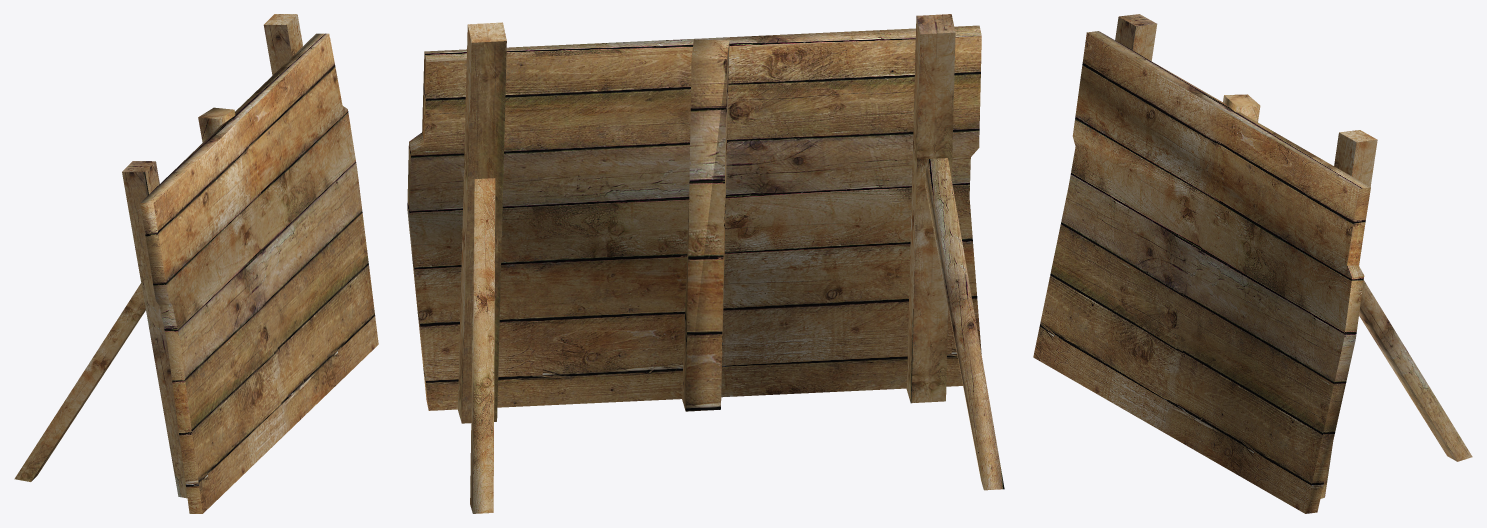
Rendered from WoodBoard.FBX.
3 renders of one model, left to right at view 1: azimuth 30°, elevation 25°; view 2: azimuth 150°, elevation 25°; view 3: azimuth 270°, elevation 25°, orthographic. The views are drawn at different scales.
Parts seen in each view (by area): view 1: WoodBoard; view 2: WoodBoard; view 3: WoodBoard.
Part boxes in pixels (x1,y1,x2,y2): WoodBoard: (14,14,378,513); WoodBoard: (407,14,1004,513); WoodBoard: (1033,14,1472,513).
Size of the model in its own units: 0.3125 by 0.2402 by 0.2771.
Materials: 1 (1 with a texture image).
